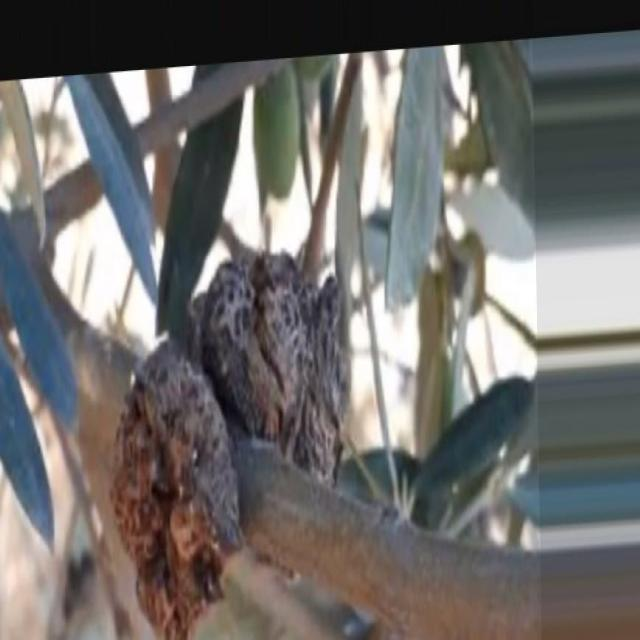Tuberculosis: (109, 339, 240, 639), (189, 251, 349, 482)
